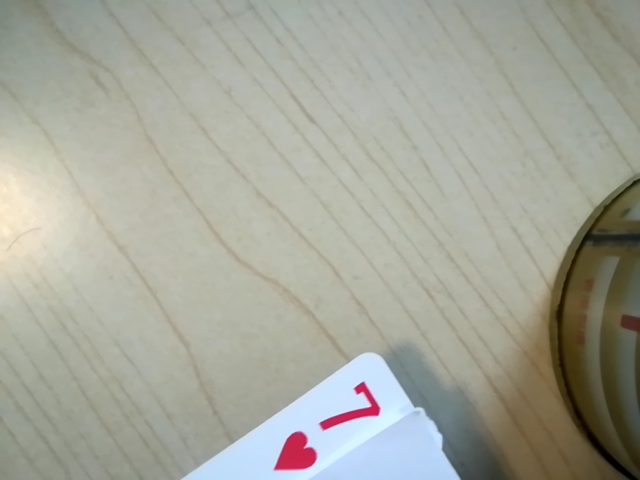hx 7: (257, 378, 401, 457)
